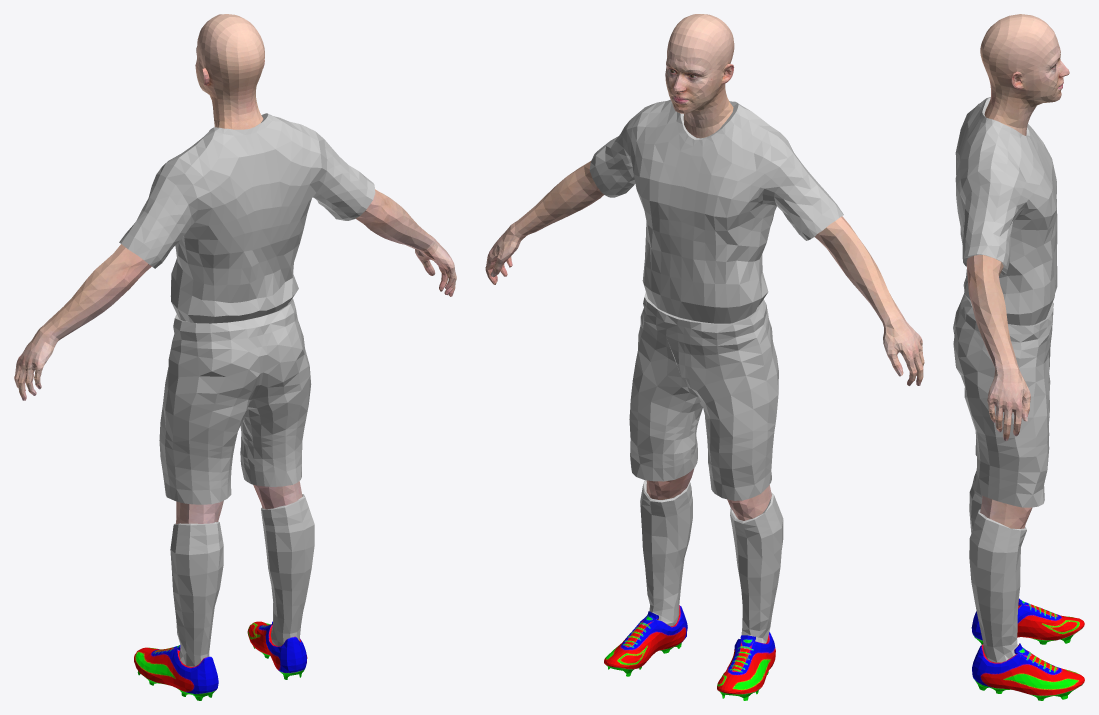
File: short-tucked.obj
3 views of the same model, side by side, from view 1: azimuth 30°, elevation 25°; view 2: azimuth 150°, elevation 25°; view 3: azimuth 270°, elevation 25° (orthographic).
Visible parts, largest first — view 1: shirt.001, shorts.001, socks, arms.001, head.003, boots.001, knees.001; view 2: shirt.001, shorts.001, socks, arms.001, head.003, boots.001, knees.001; view 3: shirt.001, shorts.001, head.003, socks, boots.001, arms.001, knees.001.
Boxes of the visible parts, box(x1,y1,x2,y2) form: shirt.001: box(119, 113, 375, 323); shorts.001: box(159, 298, 311, 504); socks: box(170, 494, 314, 666); arms.001: box(14, 189, 456, 400); head.003: box(195, 14, 264, 129); boots.001: box(134, 621, 307, 700); knees.001: box(176, 481, 302, 524); shirt.001: box(589, 99, 843, 323); shorts.001: box(629, 292, 778, 500); socks: box(640, 480, 783, 643); arms.001: box(485, 161, 924, 385); head.003: box(665, 14, 734, 138); boots.001: box(604, 605, 775, 700); knees.001: box(646, 468, 771, 520); shirt.001: box(955, 97, 1057, 325); shorts.001: box(953, 293, 1053, 507); head.003: box(980, 14, 1069, 135); socks: box(969, 471, 1026, 662); boots.001: box(971, 598, 1084, 700); arms.001: box(966, 254, 1030, 440); knees.001: box(980, 495, 1032, 528).
Bounding box in the file's own units: 1.24 × 1.79 × 0.3289.
